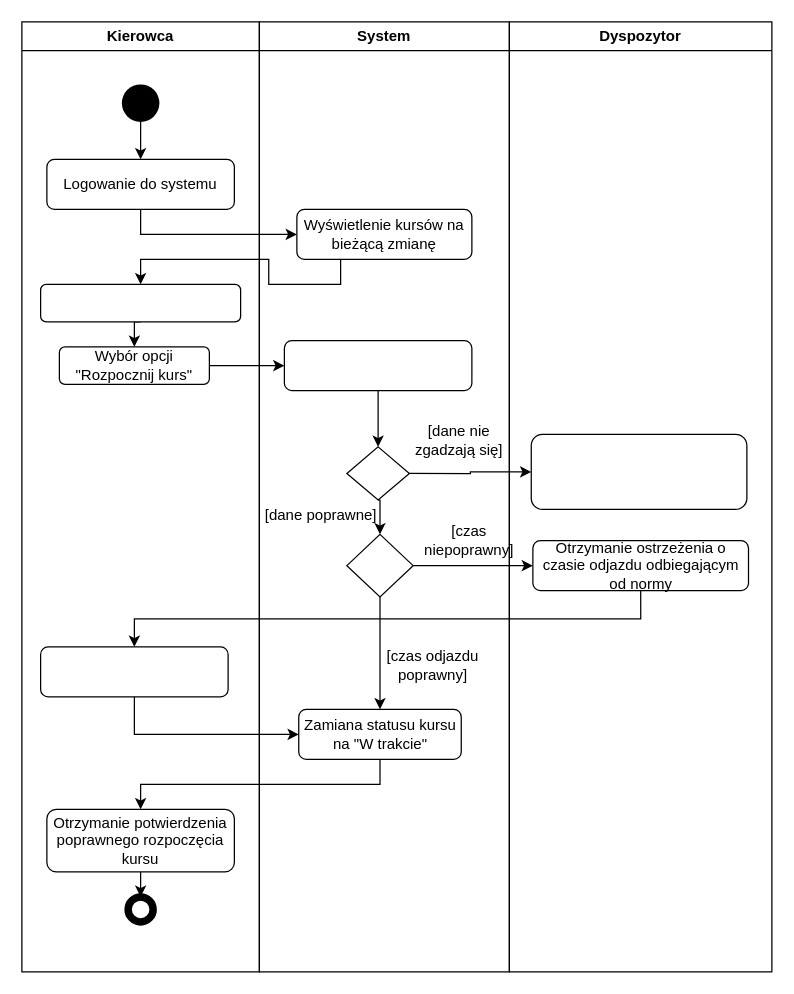
Some shapes in this 794 by 994 pixel diagram are drawn without their labels. Each missing label, with the centre of its shape:
"Otrzymanie powiadomienia o błędnych danych, kontakt z kierowcą" belongs at pixel 638 471.
"Potwierdzenie rozpoczęcia kursu mimo ostrzeżeń" belongs at pixel 133 671.
"Weryfikacja poprawności danych i czasu odjazdu" belongs at pixel 377 365.
"Wybór kursu, potwierdzanie danych o kursie" belongs at pixel 140 302.
